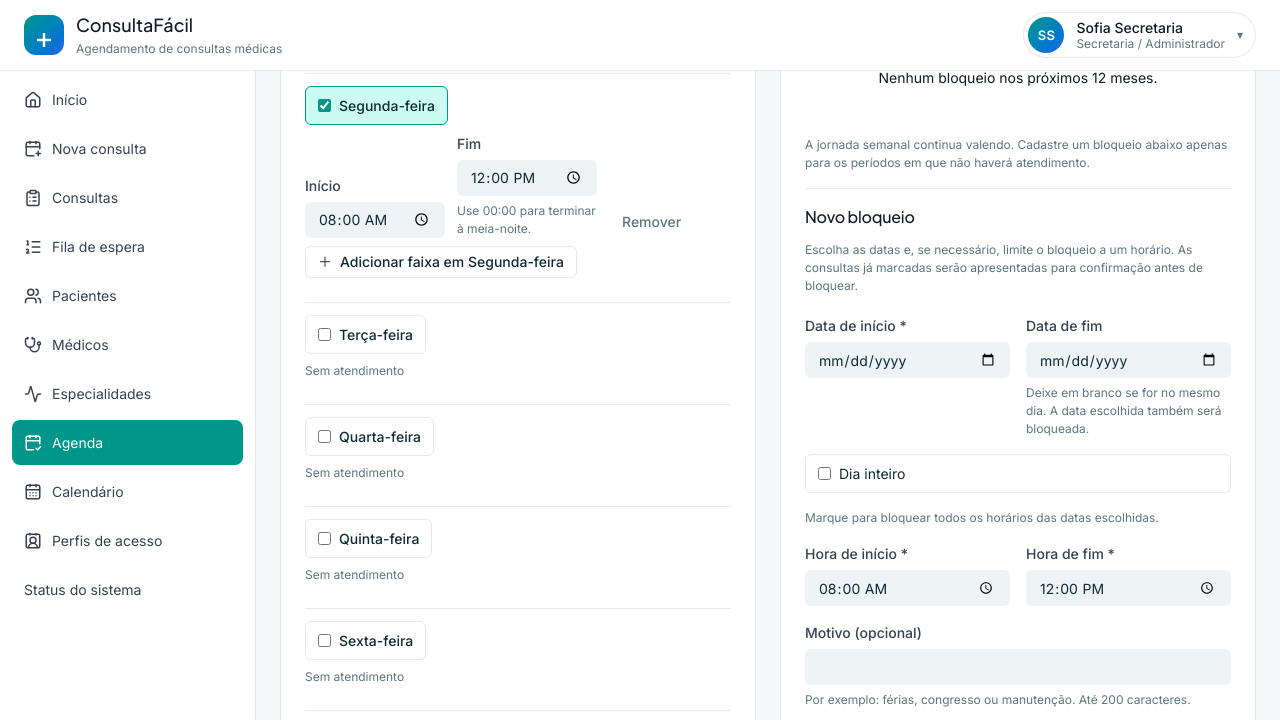
Test: bloqueio sobre consultas marcadas › volta para o formulário sem bloquear
(page scrolled)
In the date field labelled "Data de início *": (908, 360) x1=805 y1=342 x2=1010 y2=378, type "2026-11-16"
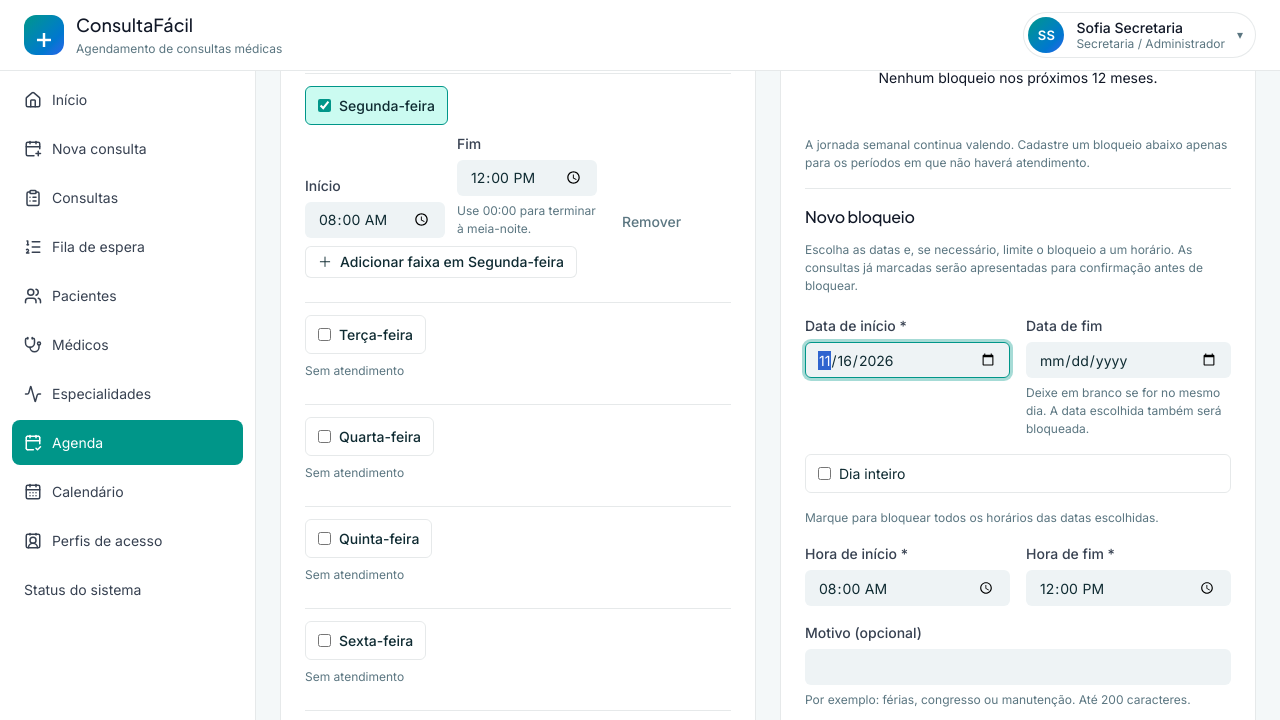
Click the checkbox labelled "Dia inteiro": (824, 474) x1=818 y1=467 x2=831 y2=480
(page scrolled)
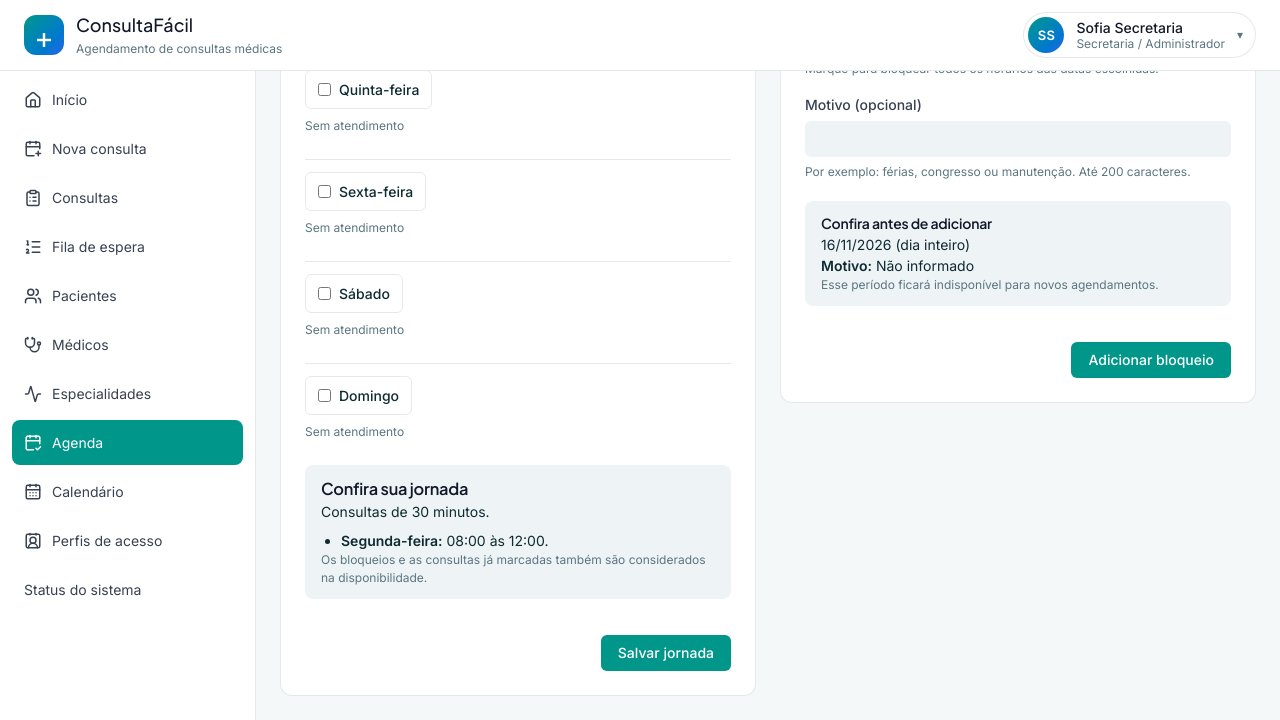
Click the button "Adicionar bloqueio": (1151, 360) x1=1072 y1=342 x2=1231 y2=378
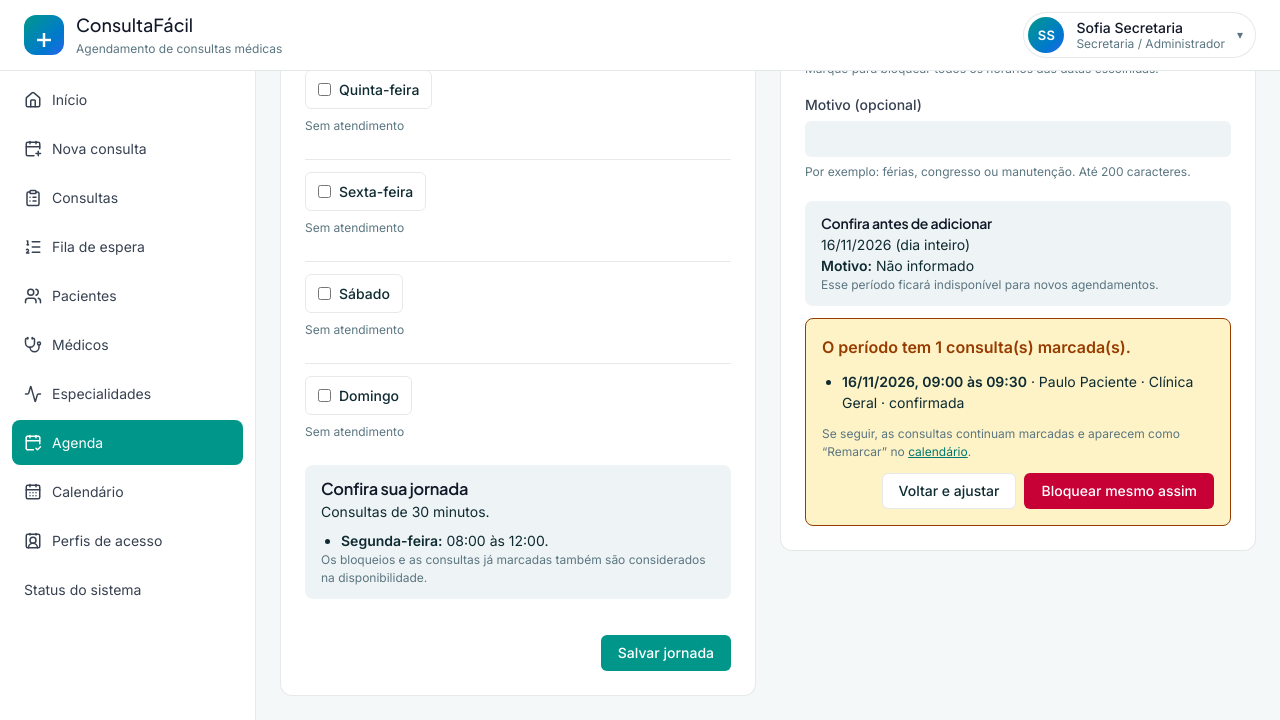
Click the button "Voltar e ajustar": (949, 491) x1=882 y1=473 x2=1016 y2=509
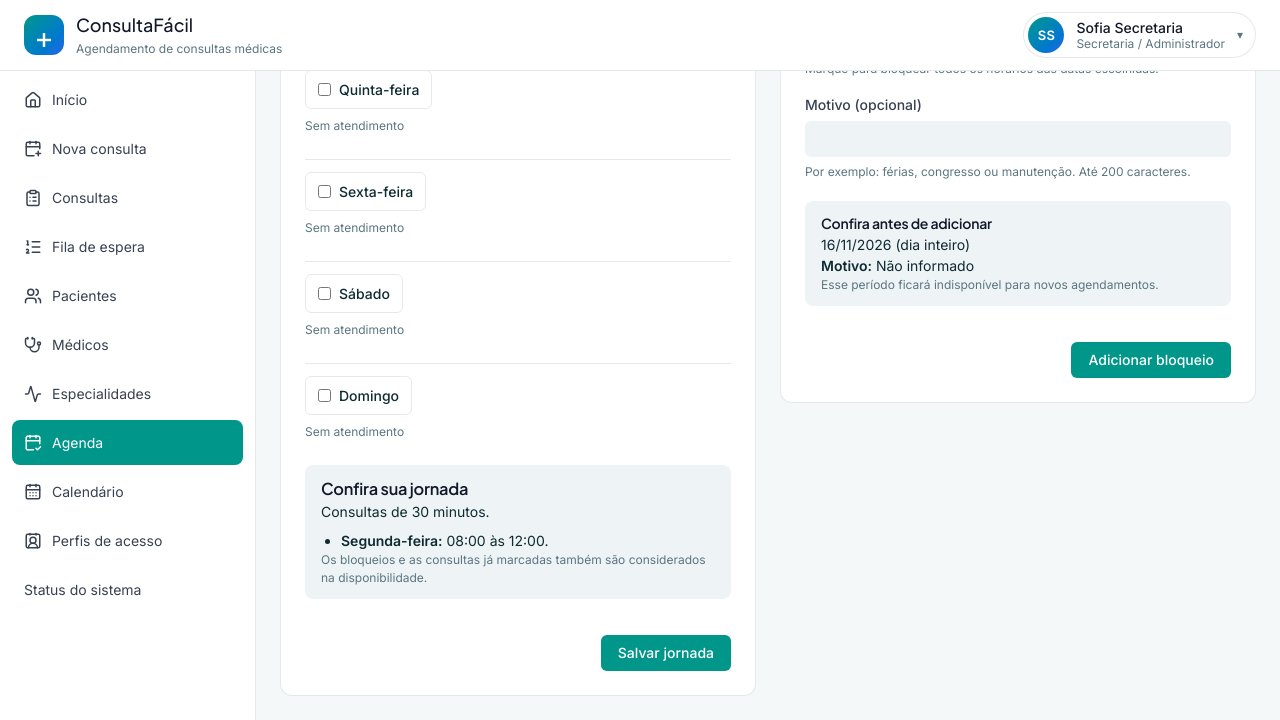
Now the text "consulta(s) marcada(s)" is gone
Now the button "Adicionar bloqueio" is shown, box x1=1072 y1=342 x2=1231 y2=378
